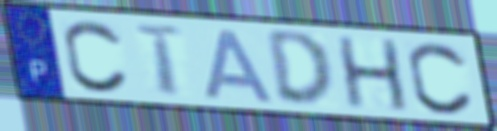A: (203, 27, 280, 105)
C: (60, 17, 132, 95), (405, 39, 477, 117)
D: (263, 29, 338, 111)
H: (333, 35, 413, 114)
T: (131, 22, 188, 99)
